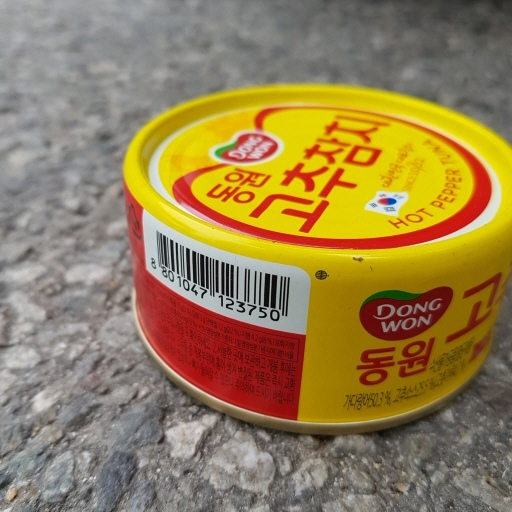Metal_1: (121, 82, 512, 430)
